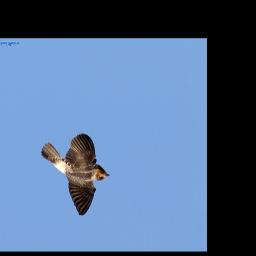Swallow: (40, 132, 112, 217)
